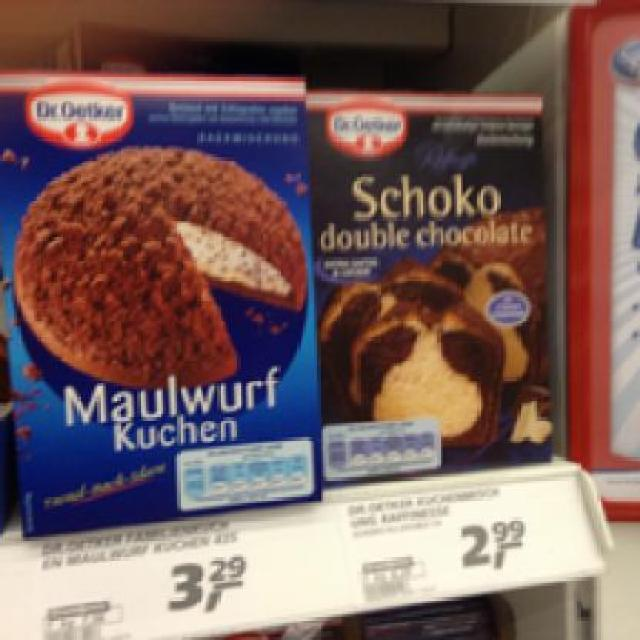Cake: (0, 70, 317, 544), (300, 83, 569, 483)
